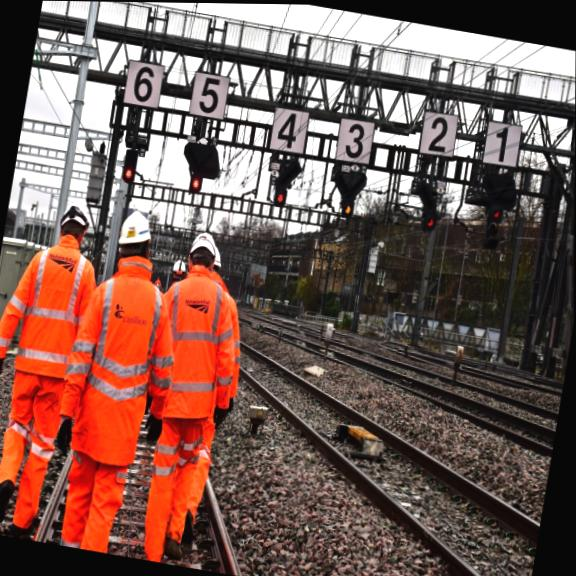safety_vest: (70, 278, 172, 479), (145, 271, 243, 454), (10, 244, 98, 406)
